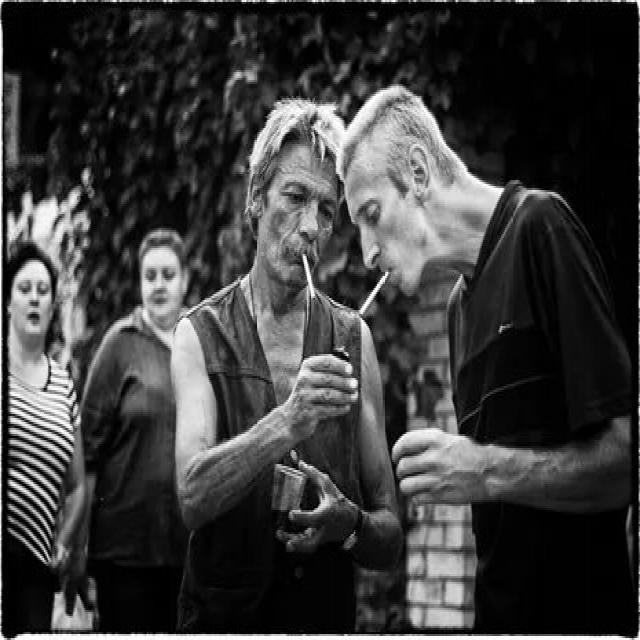smoke: (357, 268, 392, 318), (299, 248, 319, 300)
